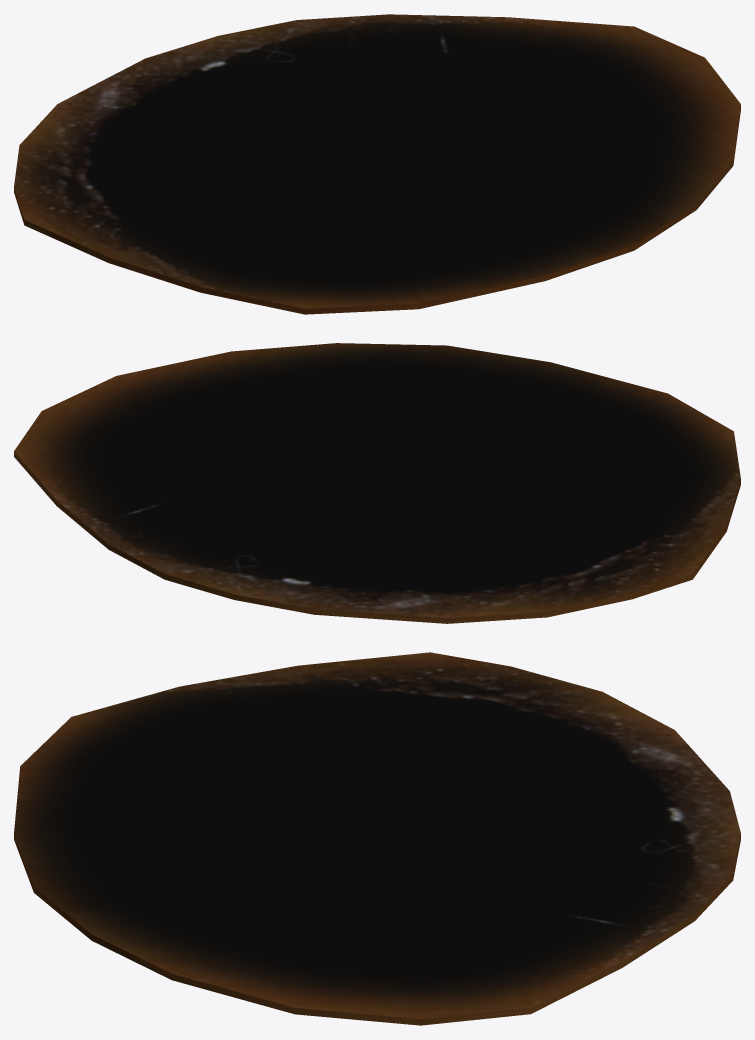
The model's file is Hole.obj.
The picture shows the model from 3 angles, top to bottom: view 1: azimuth 30°, elevation 25°; view 2: azimuth 150°, elevation 25°; view 3: azimuth 270°, elevation 25°; orthographic projection. The views are drawn at different scales.
Parts seen in each view (by area): view 1: pCylinder1; view 2: pCylinder1; view 3: pCylinder1.
Boxes of the visible parts, x1,y1,x2,y2 form: pCylinder1: [14, 14, 740, 314]; pCylinder1: [14, 343, 740, 623]; pCylinder1: [14, 652, 740, 1025].
Bounding box in the file's own units: 6.49 × 0.0534 × 5.44.
1 material, 1 textured.
